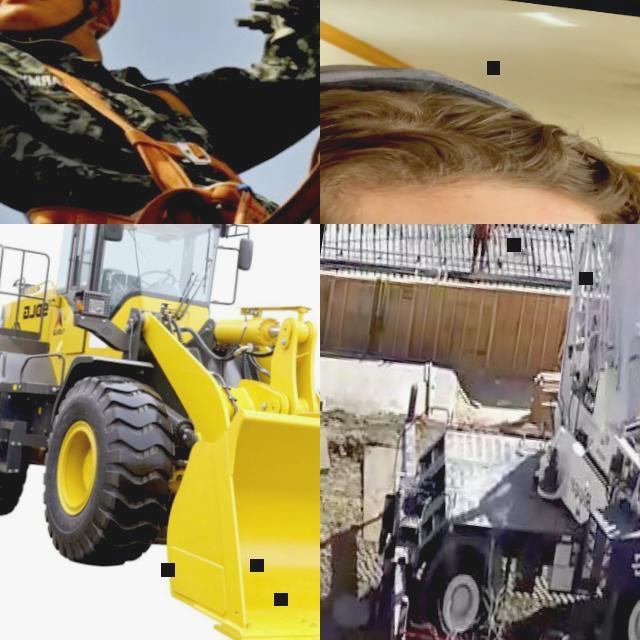machinery: (0, 224, 320, 640), (353, 224, 640, 640)
no_helmet: (320, 30, 640, 224)
no_mask: (0, 0, 110, 32)
no_vest: (0, 36, 254, 224)
person: (0, 0, 320, 224), (320, 9, 640, 224), (0, 0, 132, 42), (466, 224, 498, 271)
